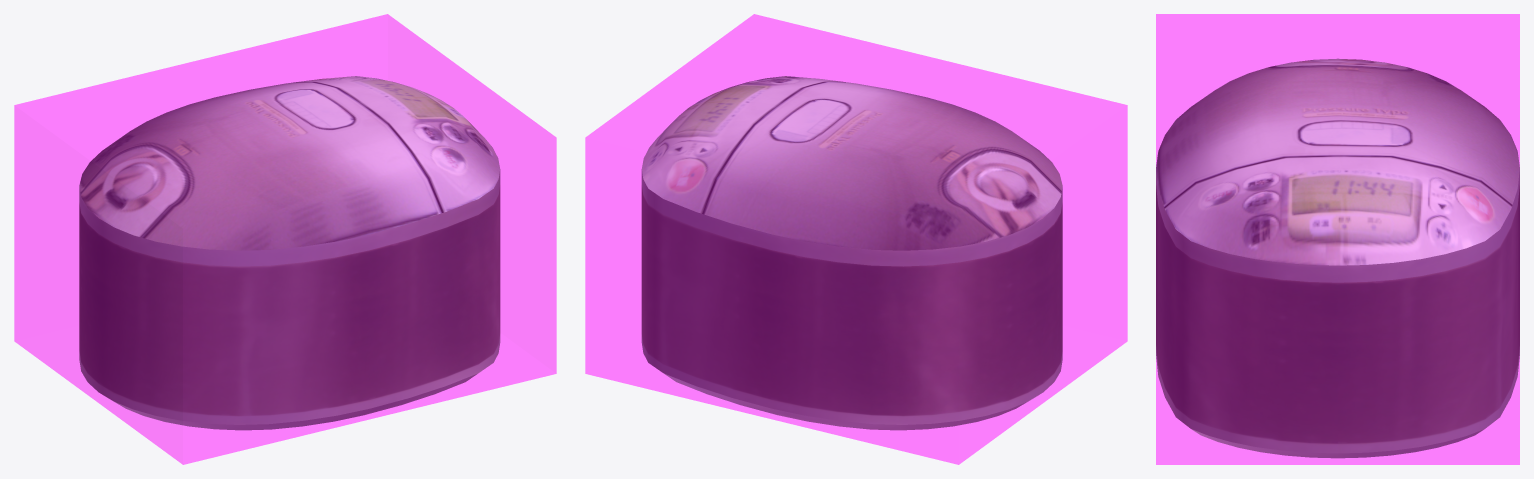
File: ricecooker_A.fbx
The picture shows the model from 3 angles, left to right: view 1: azimuth 30°, elevation 25°; view 2: azimuth 150°, elevation 25°; view 3: azimuth 270°, elevation 25°; orthographic projection. The views are drawn at different scales.
Parts seen in each view (by area): view 1: ricecooker_A_boundingBox, ricecooker_A; view 2: ricecooker_A_boundingBox, ricecooker_A; view 3: ricecooker_A_boundingBox, ricecooker_A.
Boxes of the visible parts, x1,y1,x2,y2 form: ricecooker_A_boundingBox: [14, 14, 556, 464]; ricecooker_A: [79, 76, 500, 430]; ricecooker_A_boundingBox: [585, 14, 1127, 464]; ricecooker_A: [641, 76, 1062, 430]; ricecooker_A_boundingBox: [1156, 14, 1519, 464]; ricecooker_A: [1156, 58, 1519, 458].
Size of the model in its own units: 34.11 by 20.62 by 26.71.
3 materials, 2 textured.
